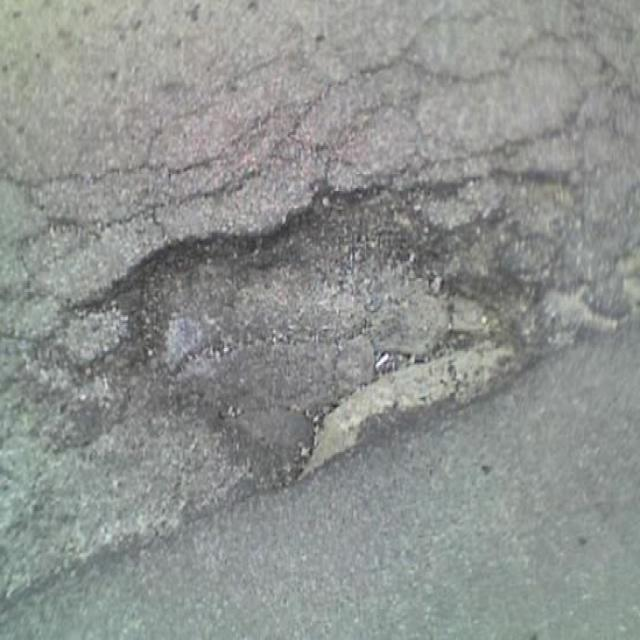Pothole: (84, 204, 567, 492)
